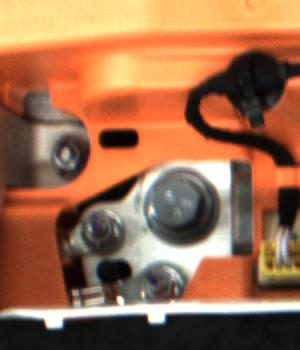nut_b: (143, 160, 227, 247)
screw_s: (46, 139, 83, 177), (81, 212, 118, 248), (143, 267, 181, 302)
